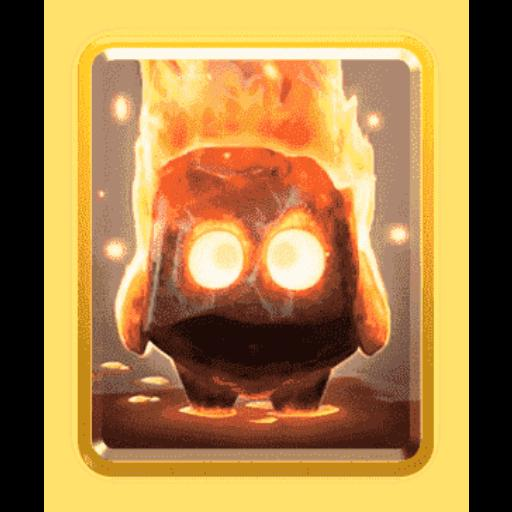fire-spirit: (85, 59, 421, 465)
